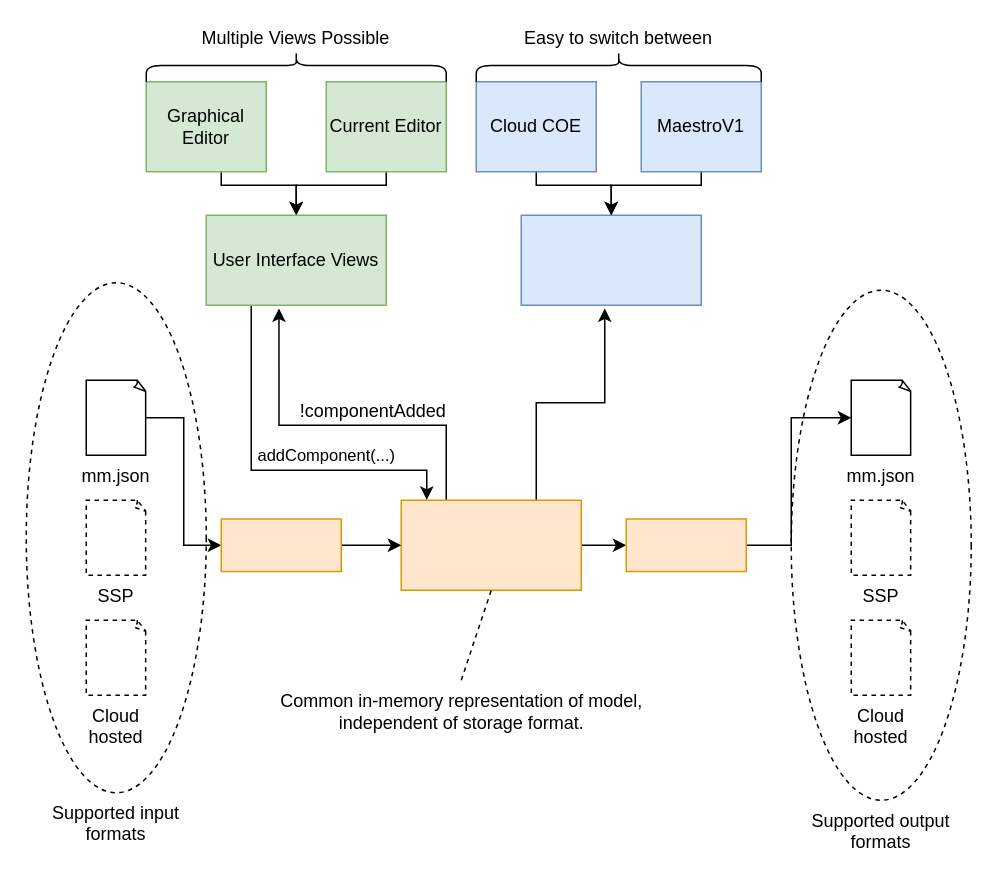
This 998x879 diagram has some shape labels left out. The shapes that lost their labels are listed below. From the top down, each one's box as (x1, y1, x2, y2) in pixels, then its label:
(520, 214, 701, 305): COE Runner(s)
(220, 518, 341, 572): Importer(s)
(400, 499, 581, 590): Project Description
(625, 518, 746, 572): Exporter(s)
